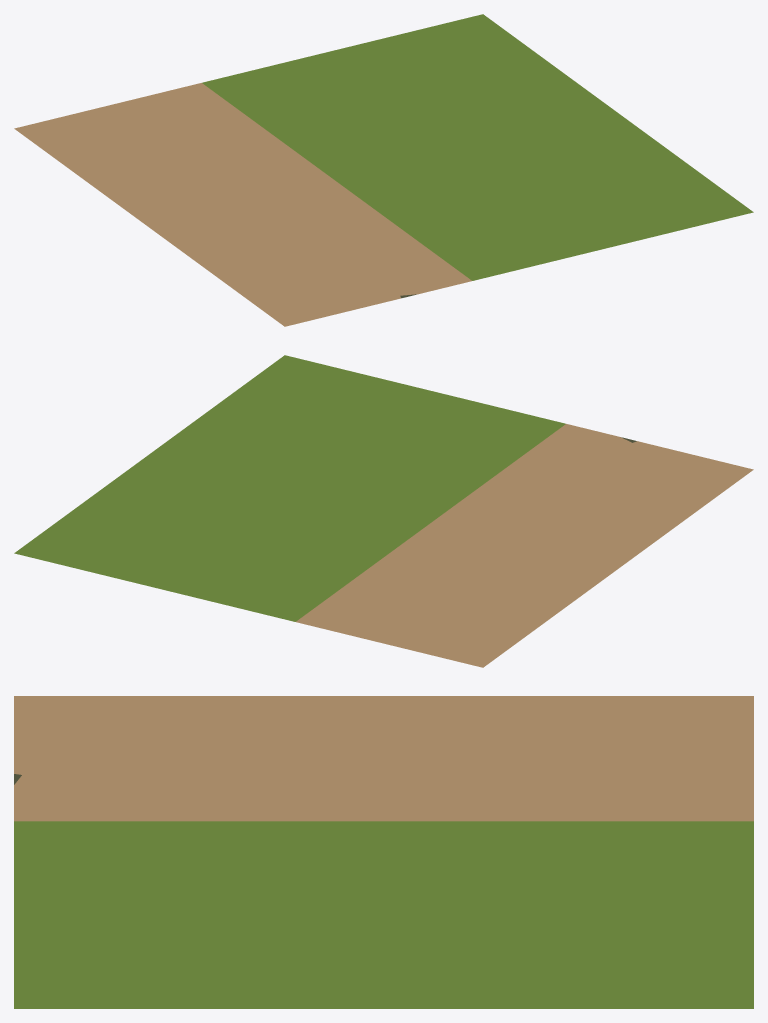
File: cure-2-1.glb
3 views of the same model, one above another, from view 1: azimuth 30°, elevation 25°; view 2: azimuth 150°, elevation 25°; view 3: azimuth 270°, elevation 25° (orthographic). The views are drawn at different scales.
Visible parts, largest first — view 1: cure-2-1; view 2: cure-2-1; view 3: cure-2-1.
Boxes of the visible parts, <box> form: cure-2-1: <box>14,14,753,326</box>; cure-2-1: <box>14,355,753,667</box>; cure-2-1: <box>14,696,753,1008</box>.
Size of the model in its own units: 100 by 0.003 by 100.
